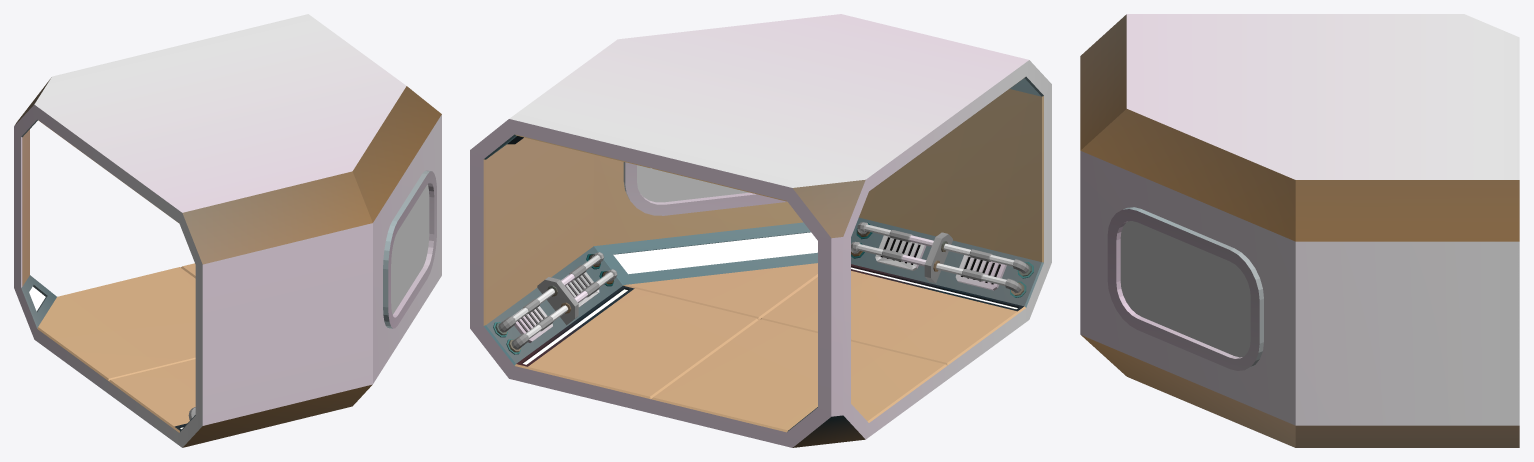
File: C_Turn90_Window.fbx
3 renders of one model, left to right at view 1: azimuth 30°, elevation 25°; view 2: azimuth 150°, elevation 25°; view 3: azimuth 270°, elevation 25°, orthographic. The views are drawn at different scales.
Visible parts, largest first — view 1: C_Turn90_Window; view 2: C_Turn90_Window; view 3: C_Turn90_Window.
Boxes of the visible parts, x1,y1,x2,y2 form: C_Turn90_Window: (14, 14, 441, 447); C_Turn90_Window: (470, 14, 1051, 447); C_Turn90_Window: (1080, 14, 1519, 447).
Bounding box in the file's own units: 4.9 × 4.9 × 3.3.
